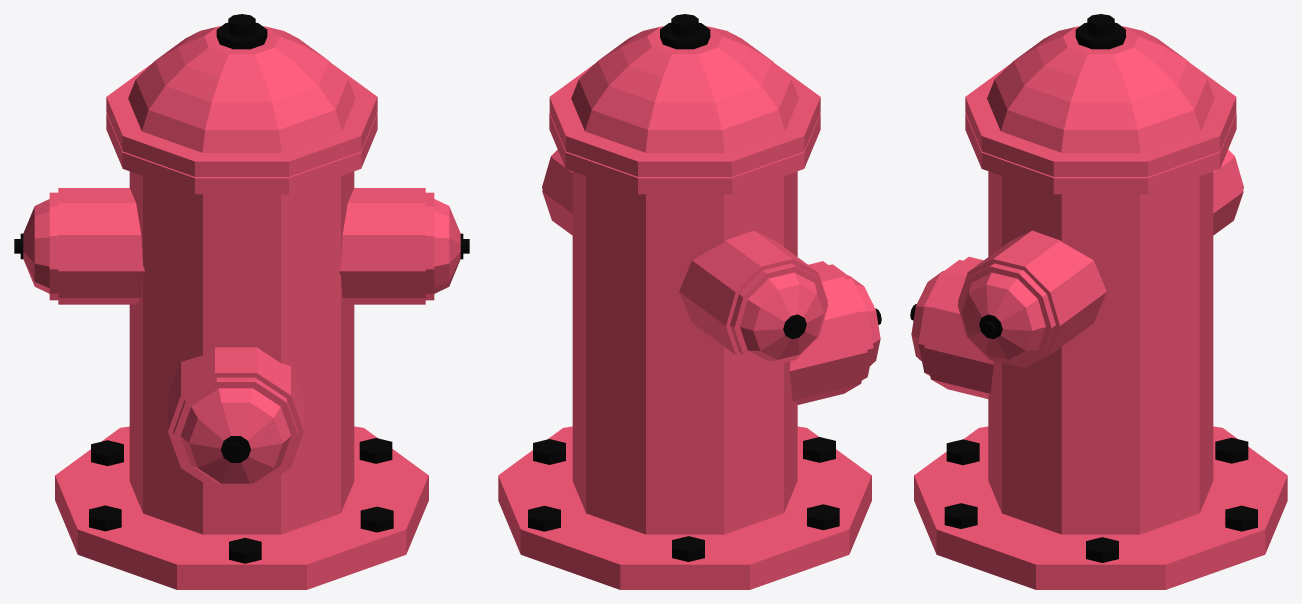
Rendered from Toy69.fbx.
3 views of the same model, side by side, from view 1: azimuth 30°, elevation 25°; view 2: azimuth 150°, elevation 25°; view 3: azimuth 270°, elevation 25° (orthographic).
Visible parts, largest first — view 1: Toy69; view 2: Toy69; view 3: Toy69.
Boxes of the visible parts, box(x1,y1,x2,y2) form: Toy69: box(14, 14, 469, 589); Toy69: box(498, 14, 881, 589); Toy69: box(910, 14, 1287, 589).
Bounding box in the file's own units: 0.1331 × 0.1809 × 0.1251.
